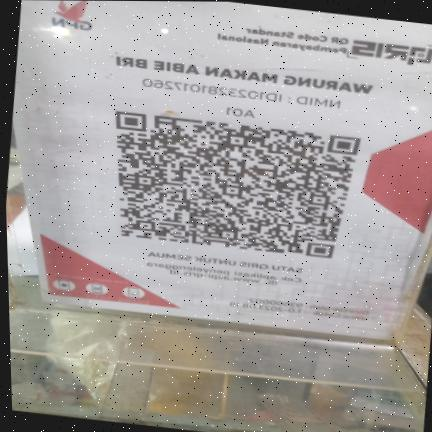Qris-Positioning: (14, 0, 432, 340)
